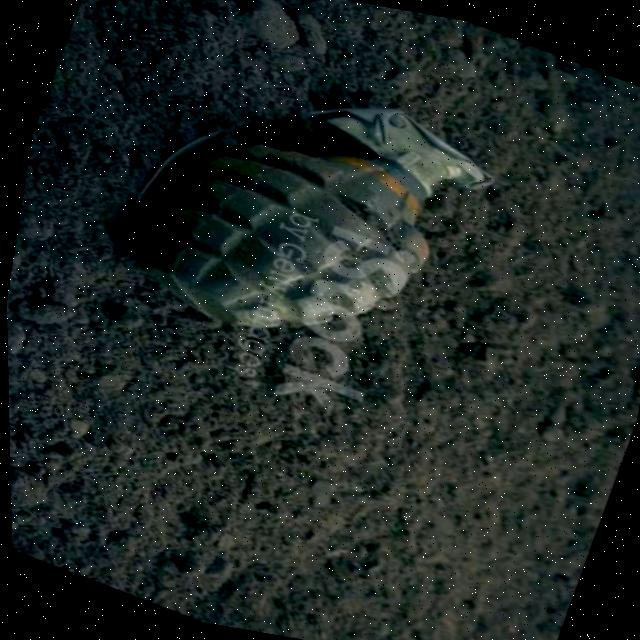grenade: (72, 16, 525, 414)
